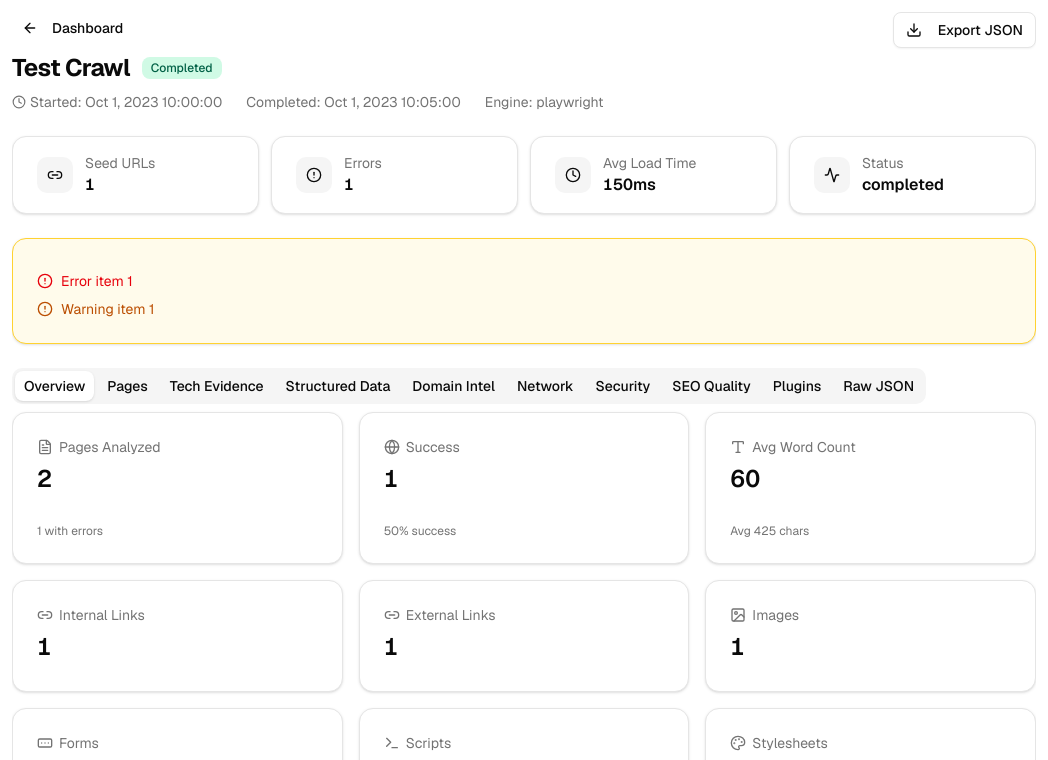
Test: CrawlDetailView › renders Tech Evidence tab content
Expected: the heading "Test Crawl" is shown, 12,52 -> 130,84
What coordinates should you click on to do the following:
click the tab "Tech Evidence"
I would click on:
 (217, 386)
Its box is 161,371 -> 273,401.
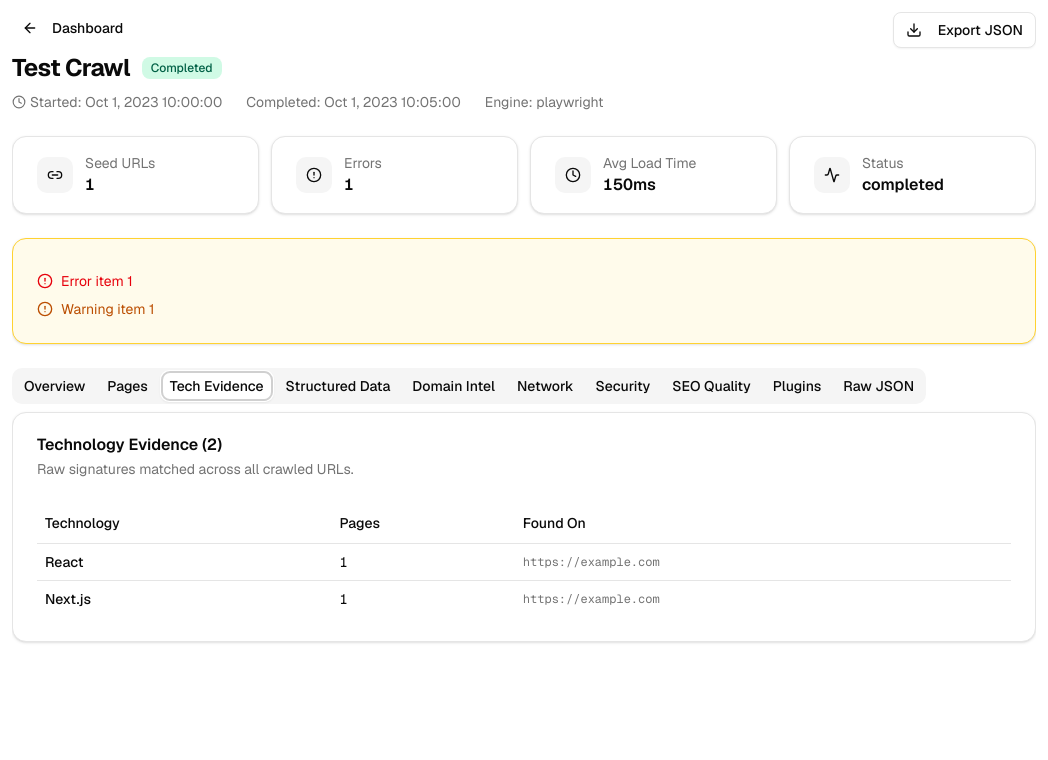
Expected: the text "React" is shown, 37,543 -> 331,580
Now the text "Technology Evidence (2)" is shown, box 37,434 -> 222,455
